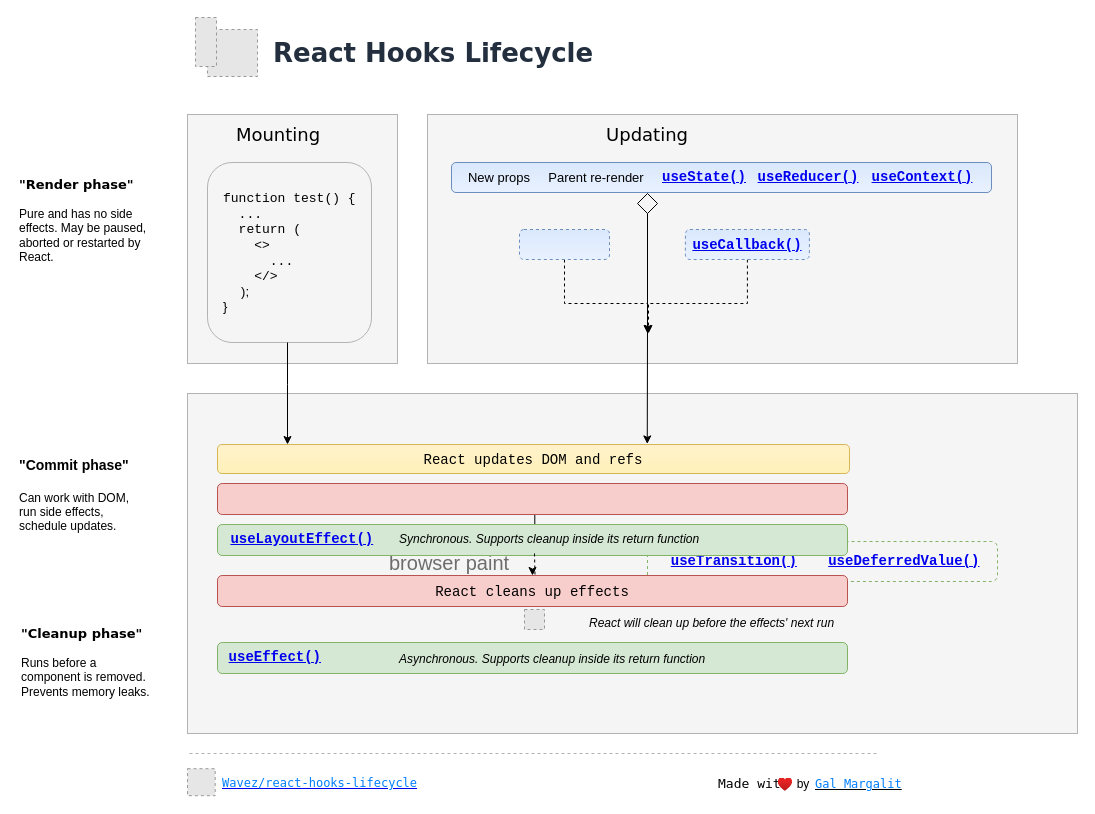
The diagram is 1095 pixels wide and 814 high, and some of its shapes have lost their labels. Grey dashed boxes stand in for pictures. The centre of each missing label's shape, as x and y in pixels:
"React cleans up layout effects" belongs at pixel 532 498.
"useMemo()" belongs at pixel 564 244.
